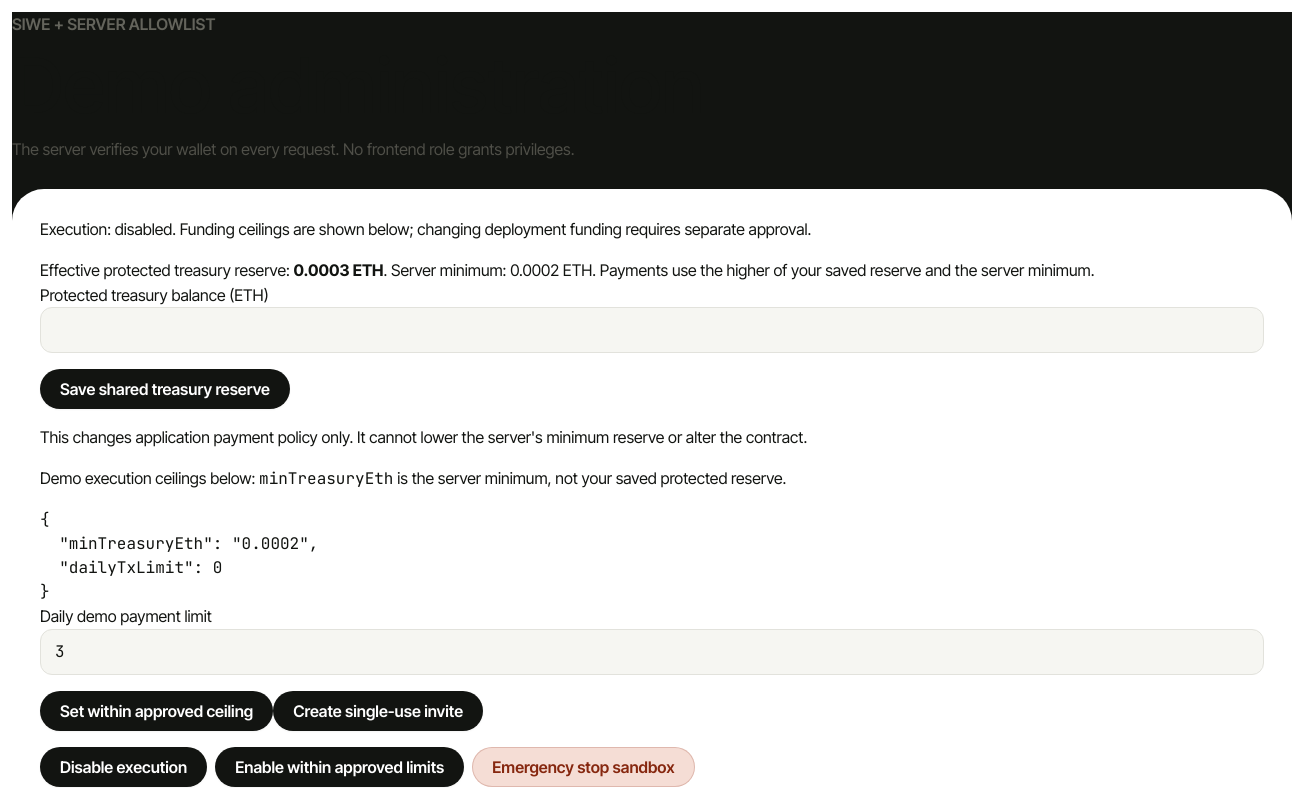
Test: admin reserve view separates effective reserve from server minimum and confirms a successful save
The image size is (1292, 788).
Expected: the text "0.0003 ETH" is shown, [294,260,384,280]
Expected: the text "Server minimum:" is shown, [384,260,510,280]
Type "0.0003" into the field labelled "Protected treasury balance" at [652, 330], box [40,307,1264,353]
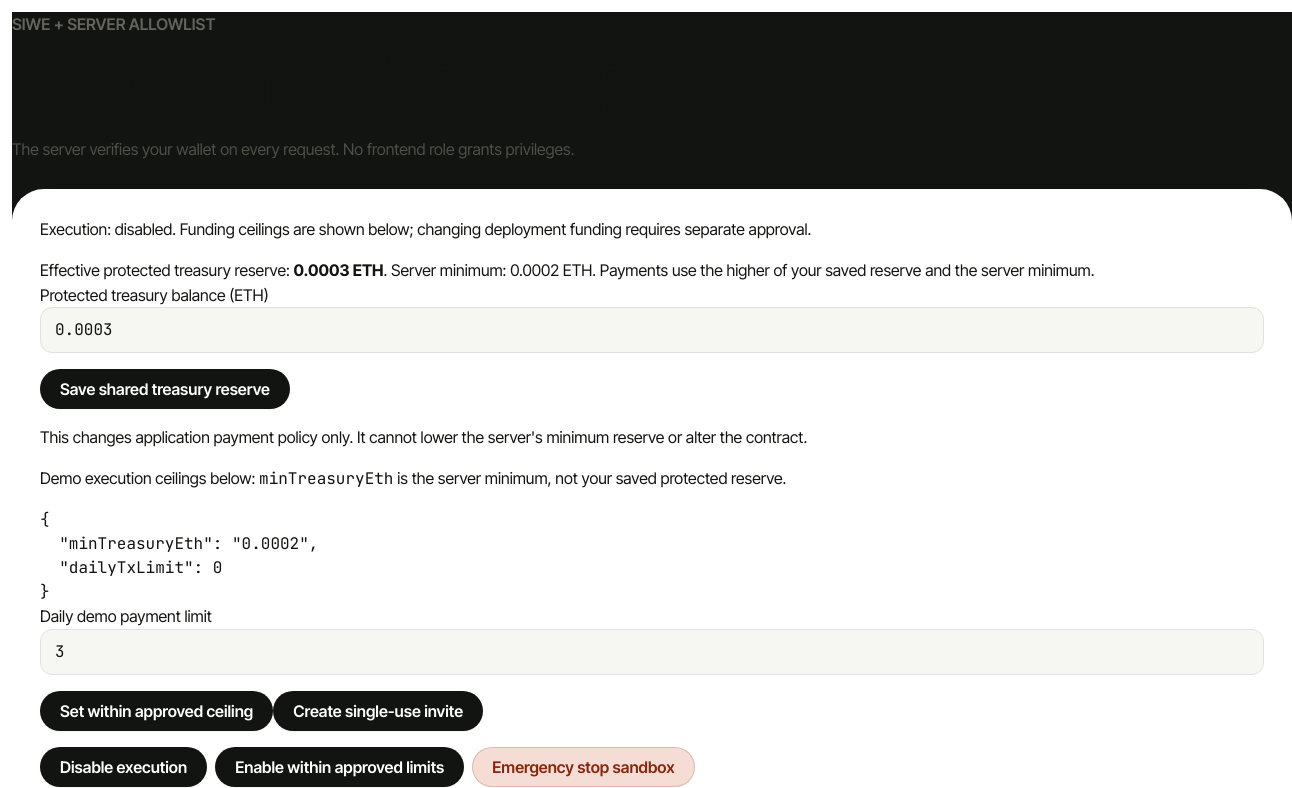
Click the button "Save shared treasury reserve" at [165, 389], box [40,369,290,409]
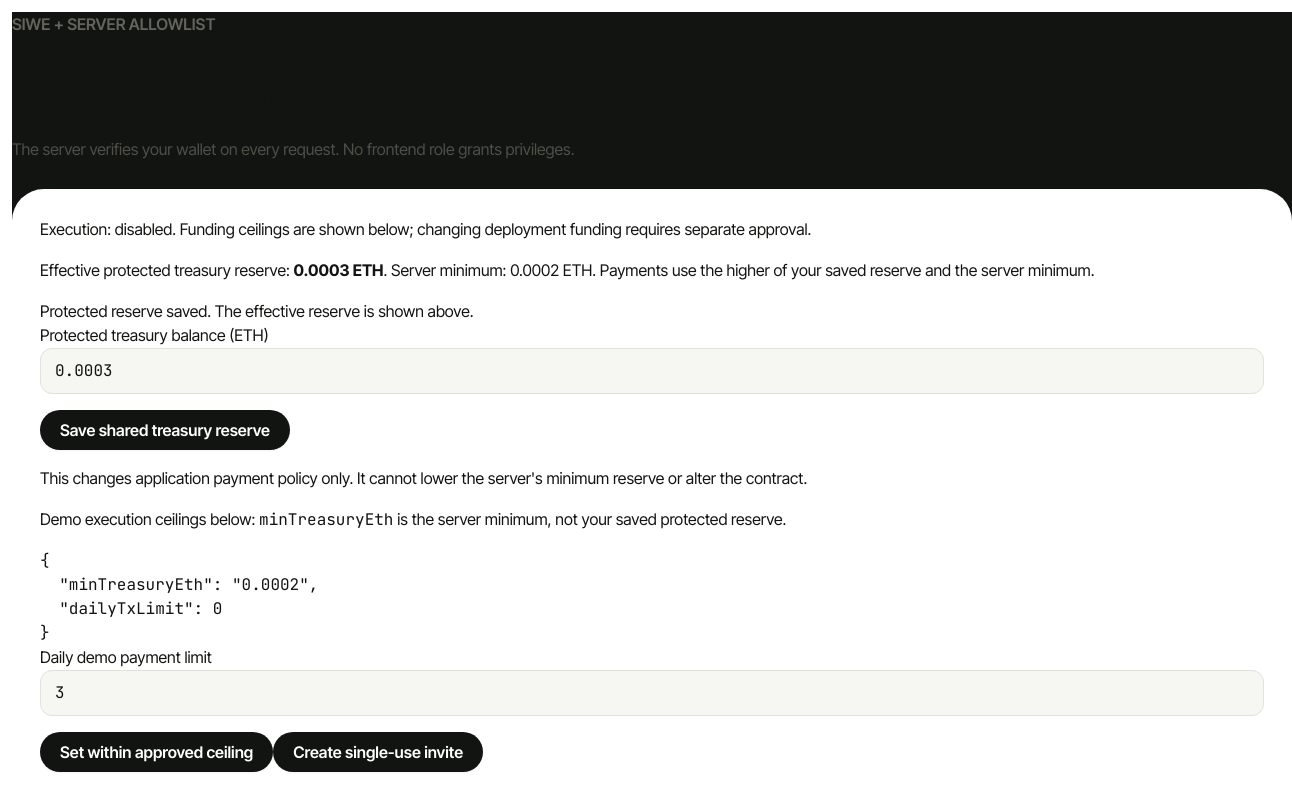
Expected: the message "Protected reserve saved. The effective reserve is shown above." is shown, [40,301,474,321]
